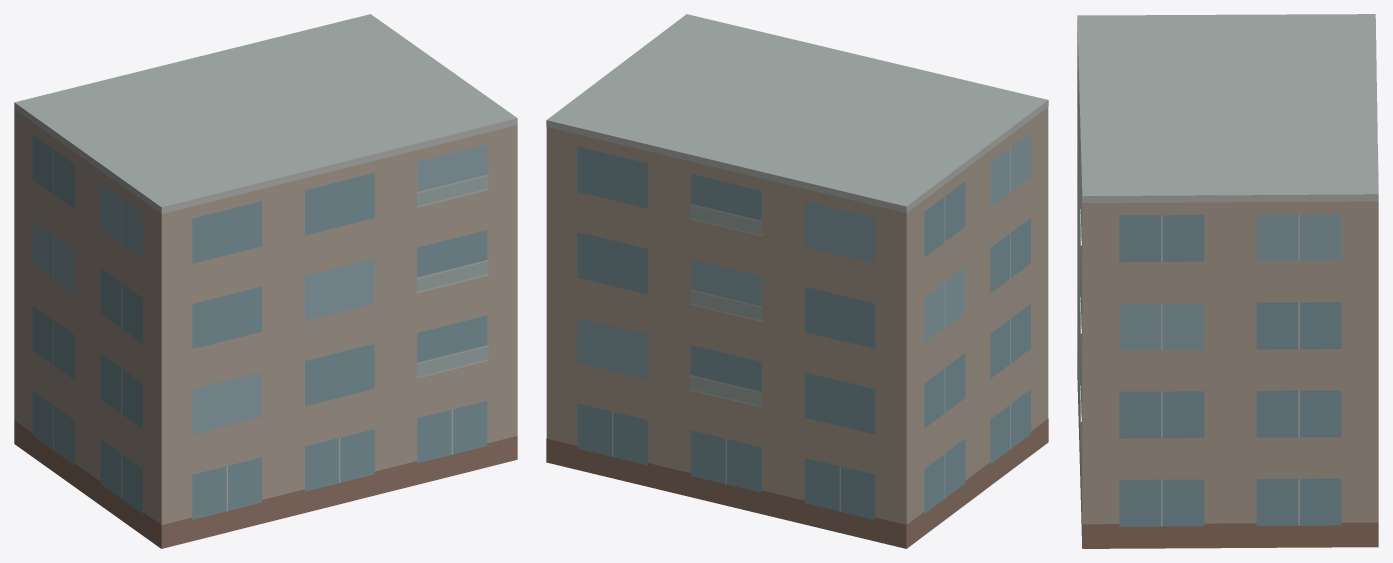
The model's file is survey-upis-33047095.glb.
The picture shows the model from 3 angles, left to right: view 1: azimuth 30°, elevation 25°; view 2: azimuth 150°, elevation 25°; view 3: azimuth 270°, elevation 25°; orthographic projection. The views are drawn at different scales.
Parts seen in each view (by area): view 1: survey-upis-33047095.tmp; view 2: survey-upis-33047095.tmp; view 3: survey-upis-33047095.tmp.
Boxes of the visible parts, bbox=[...] form: survey-upis-33047095.tmp: bbox=[14, 14, 517, 548]; survey-upis-33047095.tmp: bbox=[546, 14, 1048, 548]; survey-upis-33047095.tmp: bbox=[1077, 14, 1378, 548].
Size of the model in its own units: 13.74 by 12.4 by 9.61.
